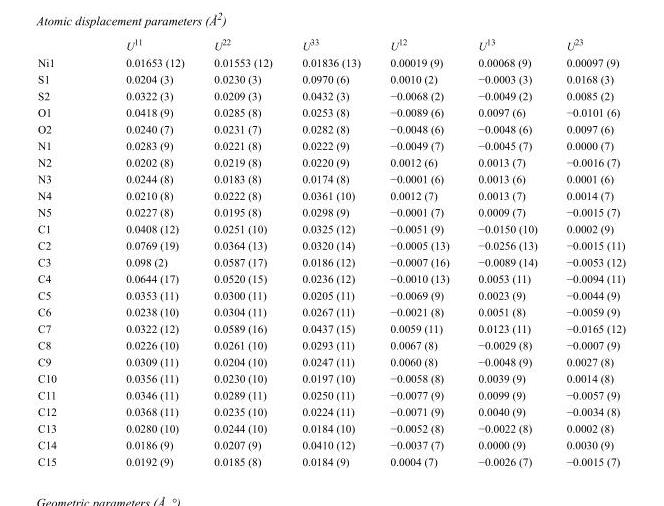table: (37, 36, 624, 467)
table column: (90, 36, 198, 467), (374, 36, 463, 467), (198, 36, 286, 467), (286, 36, 374, 467), (463, 36, 551, 467), (551, 36, 624, 467), (37, 36, 90, 467)
table column header: (37, 36, 624, 53)
table row: (37, 36, 624, 53), (37, 53, 624, 70), (37, 70, 624, 87), (37, 103, 624, 120), (37, 136, 624, 153), (37, 153, 624, 170), (37, 186, 624, 203), (37, 203, 624, 220), (37, 236, 624, 253), (37, 269, 624, 286), (37, 286, 624, 303), (37, 319, 624, 336), (37, 336, 624, 353), (37, 369, 624, 386), (37, 402, 624, 419), (37, 419, 624, 436), (37, 87, 624, 103), (37, 120, 624, 136), (37, 170, 624, 186), (37, 220, 624, 236), (37, 253, 624, 269), (37, 303, 624, 319), (37, 353, 624, 369), (37, 386, 624, 402), (37, 436, 624, 452), (37, 452, 624, 467)
